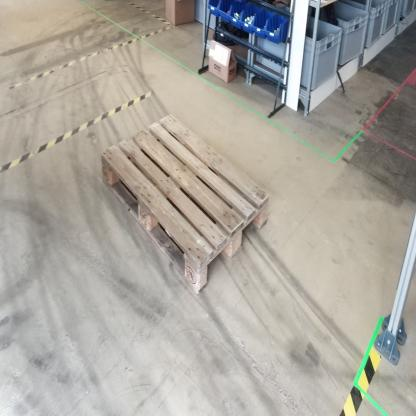BoxFace: (99, 106, 271, 301)
